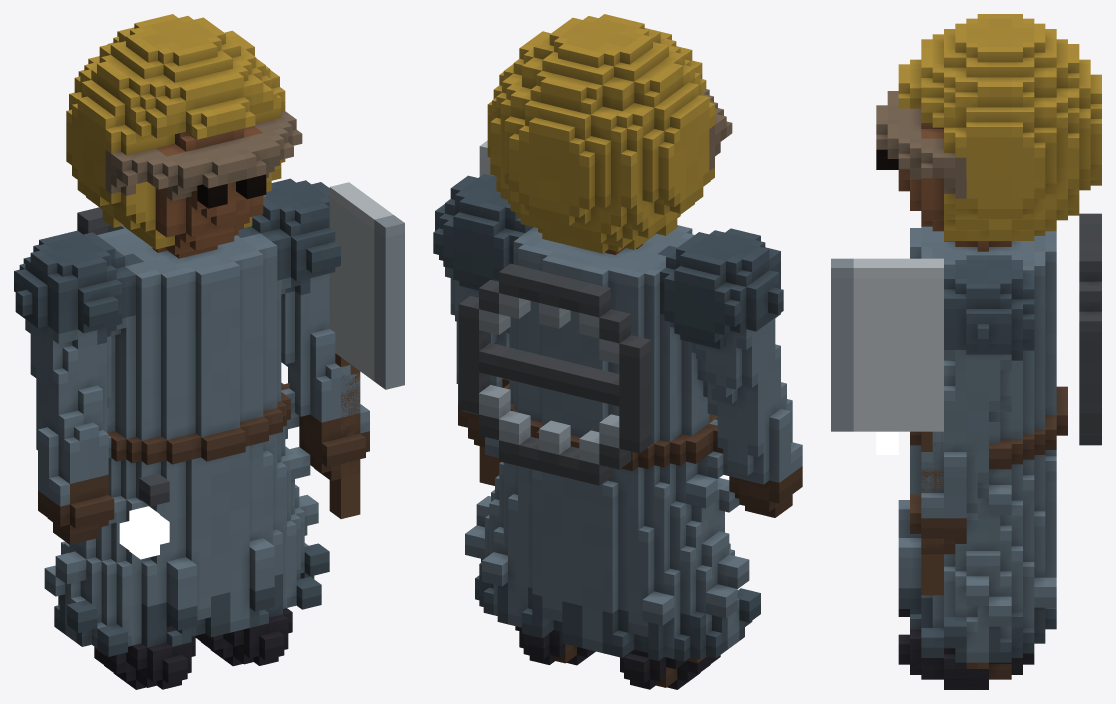
File: u_trappeur__receleur.glb
3 views of the same model, side by side, from view 1: azimuth 30°, elevation 25°; view 2: azimuth 150°, elevation 25°; view 3: azimuth 270°, elevation 25° (orthographic). The views are drawn at different scales.
Visible parts, largest first — view 1: trappeur_body, trappeur_weapon, trappeur_glow; view 2: trappeur_body, trappeur_weapon; view 3: trappeur_body, trappeur_weapon, trappeur_glow.
Part boxes in pixels (box(x1,y1,x2,y2)): trappeur_body: box(14, 14, 369, 689); trappeur_weapon: box(329, 182, 404, 518); trappeur_glow: box(119, 506, 169, 559); trappeur_body: box(433, 14, 802, 689); trappeur_weapon: box(479, 140, 500, 485); trappeur_body: box(876, 14, 1101, 689); trappeur_weapon: box(831, 258, 943, 595); trappeur_glow: box(876, 431, 898, 454).
Bounding box in the file's own units: 0.85 × 1.52 × 0.6.
